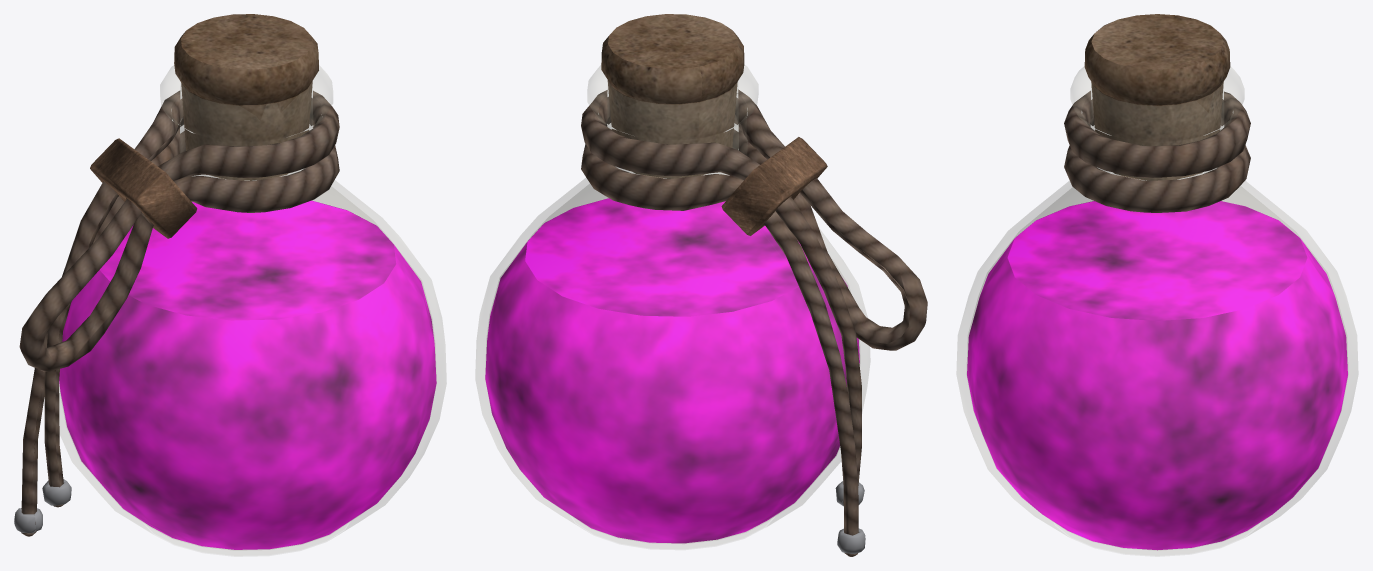
Rendered from flask_round.glb.
The picture shows the model from 3 angles, left to right: view 1: azimuth 30°, elevation 25°; view 2: azimuth 150°, elevation 25°; view 3: azimuth 270°, elevation 25°; orthographic projection.
Parts seen in each view (by area): view 1: pPipe2_lambert1_0; view 2: pPipe2_lambert1_0; view 3: pPipe2_lambert1_0.
Boxes of the visible parts, <box> form: pPipe2_lambert1_0: <box>14,14,446,555</box>; pPipe2_lambert1_0: <box>475,14,927,556</box>; pPipe2_lambert1_0: <box>956,14,1358,555</box>.
Bounding box in the file's own units: 18 × 19.52 × 15.15.
Materials: 1 (1 with a texture image).
